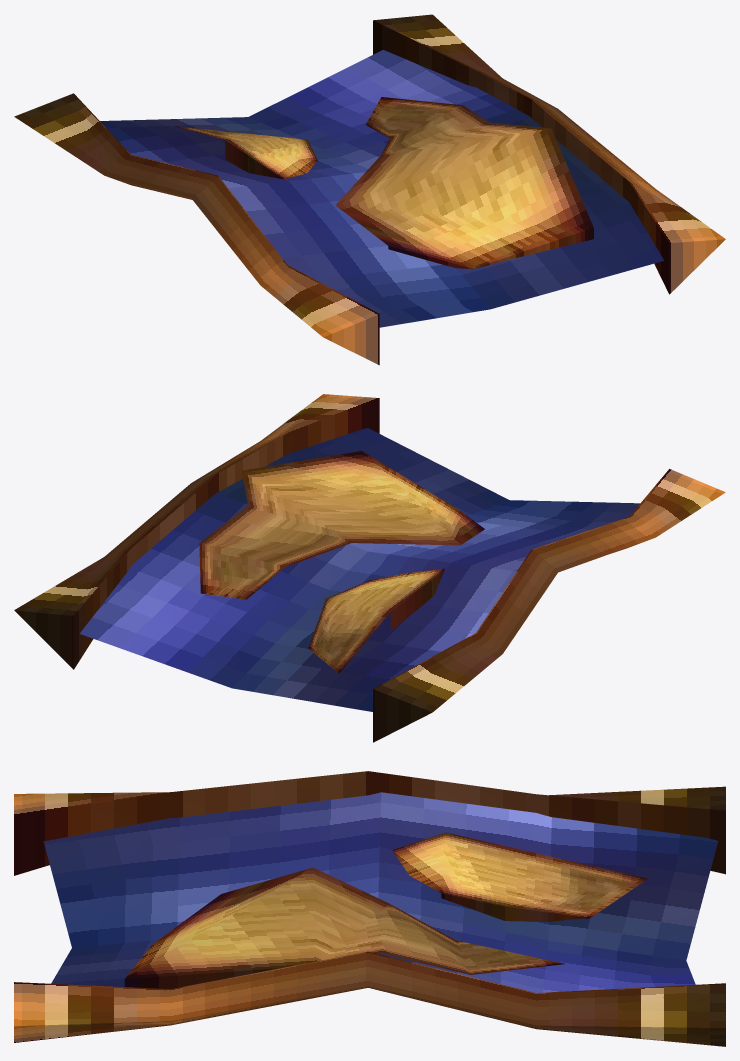
The model's file is HELLASITEM00.glb.
3 views of the same model, one above another, from view 1: azimuth 30°, elevation 25°; view 2: azimuth 150°, elevation 25°; view 3: azimuth 270°, elevation 25° (orthographic). The views are drawn at different scales.
Visible parts, largest first — view 1: model_HELLASITEM00; view 2: model_HELLASITEM00; view 3: model_HELLASITEM00.
Part boxes in pixels (<box>): model_HELLASITEM00: <box>14,14,725,365</box>; model_HELLASITEM00: <box>14,394,725,742</box>; model_HELLASITEM00: <box>14,771,725,1046</box>.
Size of the model in its own units: 0.3296 by 0.0632 by 0.4106.
Materials: 2 (2 with a texture image).
